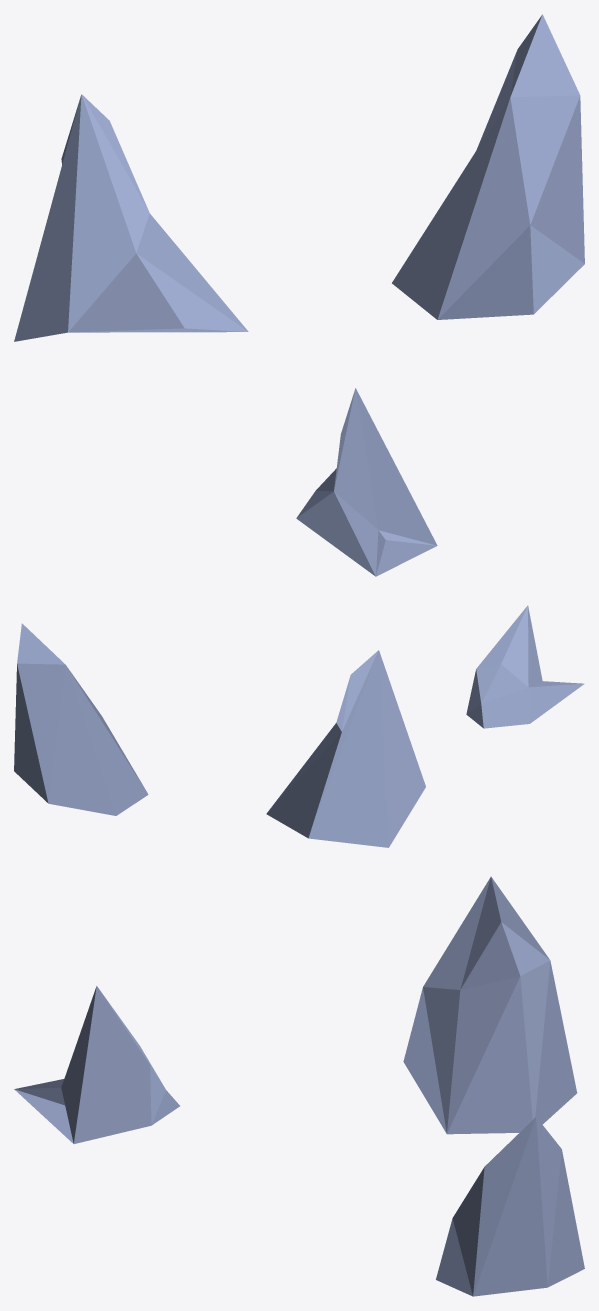
Rendered from plane_ice_rock01.FBX.
3 renders of one model, top to bottom at view 1: azimuth 30°, elevation 25°; view 2: azimuth 150°, elevation 25°; view 3: azimuth 270°, elevation 25°, orthographic. The views are drawn at different scales.
Visible parts, largest first — view 1: rock002; view 2: rock002; view 3: rock002.
Part boxes in pixels (x1,y1,x2,y2): rock002: (14, 14, 584, 576); rock002: (14, 605, 584, 847); rock002: (14, 876, 584, 1296).
Size of the model in its own units: 28.42 by 15.31 by 32.59.
